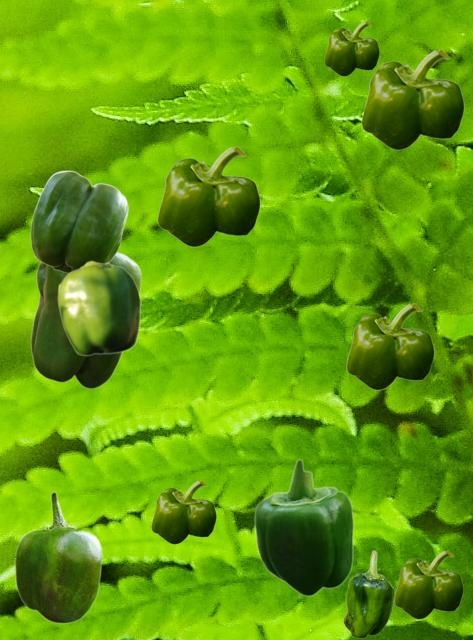bell_pepper: (30, 252, 141, 388), (253, 458, 353, 596), (14, 491, 102, 623), (361, 49, 463, 149), (157, 146, 259, 246), (30, 170, 127, 273), (57, 260, 140, 355), (346, 303, 433, 389), (394, 550, 462, 618), (343, 550, 393, 637), (151, 480, 215, 543), (324, 21, 378, 75)
